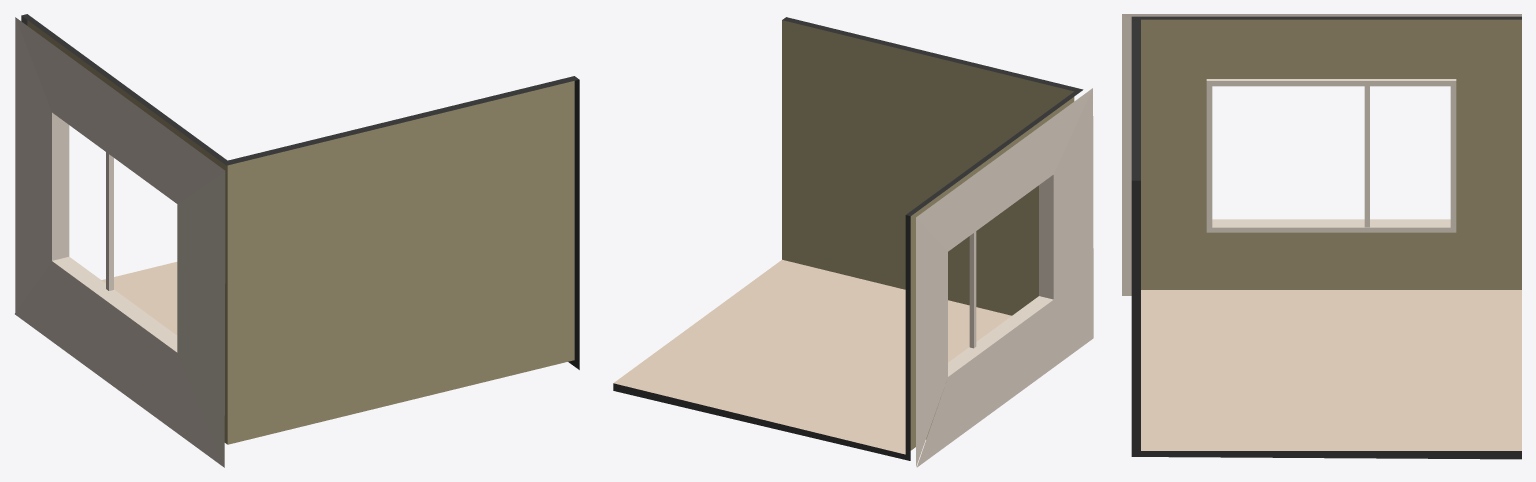
The model's file is Office_2.fbx.
The picture shows the model from 3 angles, left to right: view 1: azimuth 30°, elevation 25°; view 2: azimuth 150°, elevation 25°; view 3: azimuth 270°, elevation 25°; orthographic projection. The views are drawn at different scales.
Visible parts, largest first — view 1: Office.001; view 2: Office.001; view 3: Office.001.
Part boxes in pixels (x1,y1,x2,y2): Office.001: (15,14,579,467); Office.001: (613,17,1093,467); Office.001: (1122,14,1521,459).
Size of the model in its own units: 4.21 by 3.38 by 4.26.
